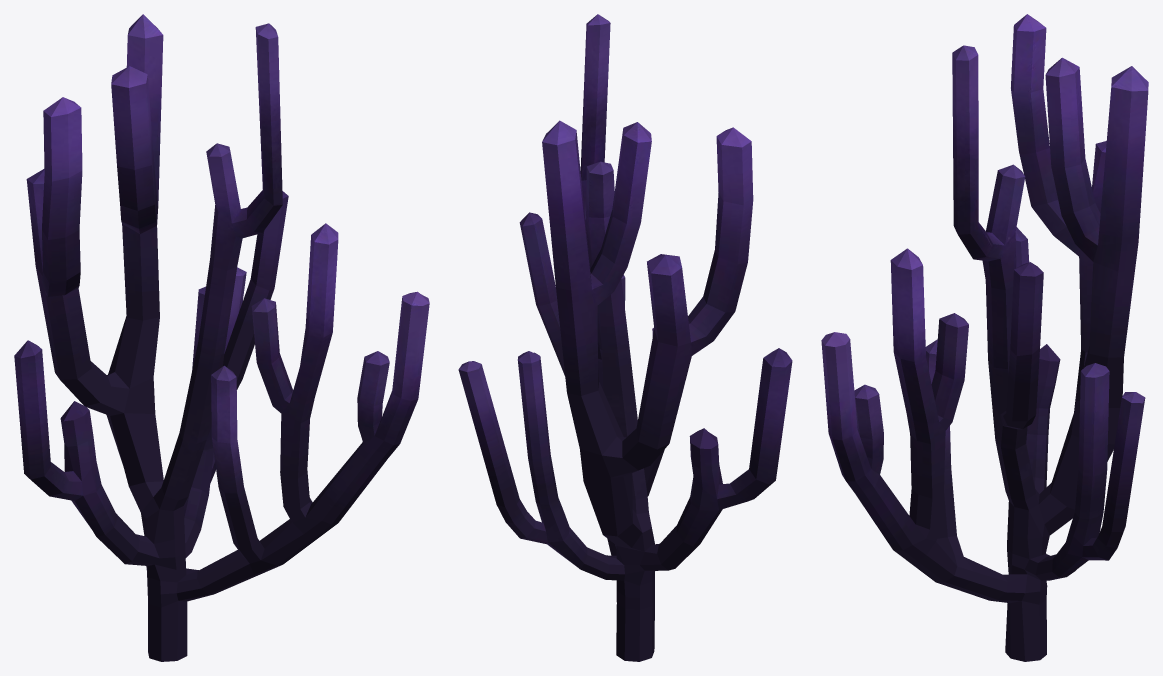
The model's file is plant_21.fbx.
The picture shows the model from 3 angles, left to right: view 1: azimuth 30°, elevation 25°; view 2: azimuth 150°, elevation 25°; view 3: azimuth 270°, elevation 25°; orthographic projection. The views are drawn at different scales.
Visible parts, largest first — view 1: Mesh; view 2: Mesh; view 3: Mesh.
Boxes of the visible parts, box(x1,y1,x2,y2) form: Mesh: box(14, 14, 429, 661); Mesh: box(458, 14, 792, 661); Mesh: box(821, 14, 1148, 661).
Bounding box in the file's own units: 12.29 × 23.15 × 10.67.
